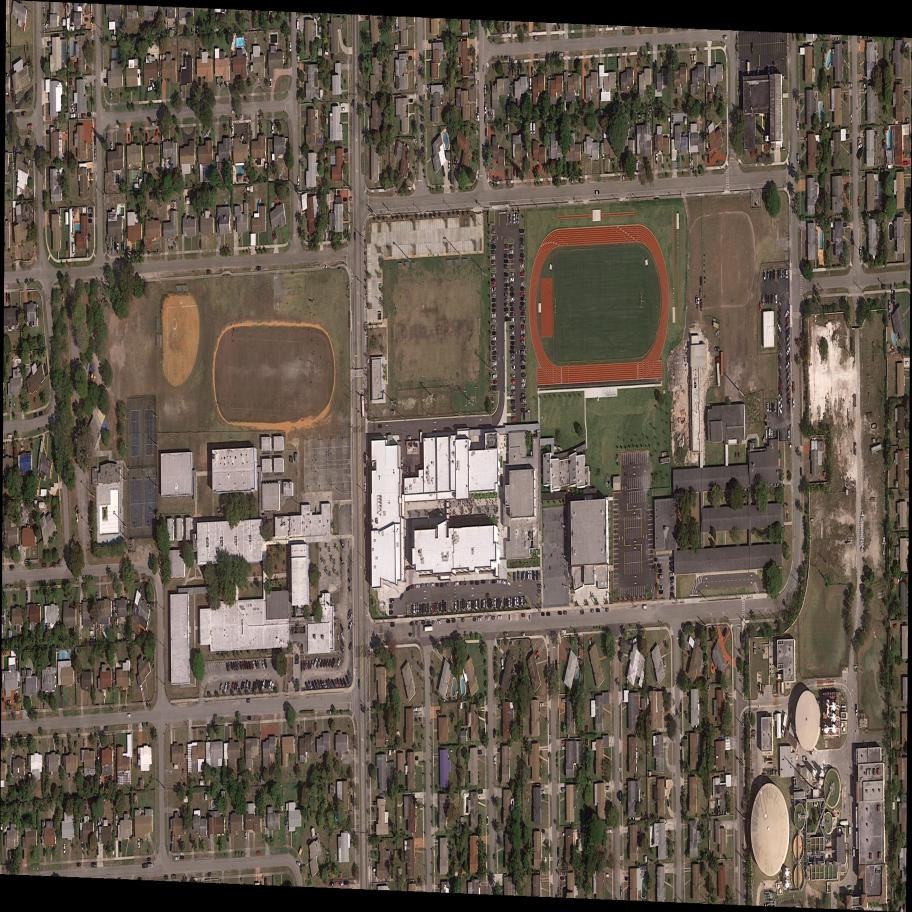large-vehicle: (361, 395, 365, 420), (839, 820, 849, 827), (765, 759, 773, 765), (747, 62, 750, 76), (424, 627, 432, 632)
ship: (115, 815, 118, 827)
small-vehicle: (721, 627, 729, 638), (346, 669, 353, 680), (298, 846, 304, 857), (316, 678, 322, 689), (327, 657, 333, 668), (303, 681, 310, 690), (776, 323, 783, 332), (784, 327, 791, 336), (313, 679, 319, 689), (315, 658, 321, 668), (347, 608, 353, 618), (683, 710, 689, 720), (200, 131, 207, 139), (784, 322, 791, 330), (785, 386, 792, 394), (564, 647, 571, 655), (331, 657, 336, 668), (348, 640, 353, 651), (151, 81, 157, 90), (223, 80, 229, 89), (44, 21, 50, 30), (239, 134, 245, 143), (307, 680, 313, 689), (310, 680, 316, 689), (319, 678, 325, 687), (324, 679, 330, 688), (327, 678, 333, 687), (333, 678, 339, 687), (205, 129, 211, 138), (339, 638, 345, 647), (784, 309, 790, 318), (778, 400, 784, 409), (777, 387, 783, 396), (777, 380, 783, 389), (785, 333, 791, 342), (785, 354, 791, 363), (398, 593, 404, 602), (441, 165, 445, 178), (263, 659, 268, 669), (319, 658, 324, 668), (340, 631, 345, 641), (348, 621, 353, 631), (171, 241, 178, 248), (55, 558, 62, 565), (631, 637, 638, 644), (11, 91, 15, 103), (339, 678, 345, 686), (342, 678, 348, 686), (259, 679, 263, 691), (339, 645, 345, 653), (777, 349, 783, 357), (776, 342, 782, 350), (336, 677, 341, 686), (345, 675, 350, 684), (226, 682, 231, 691), (322, 658, 327, 667), (339, 623, 344, 632), (777, 298, 782, 307), (777, 355, 782, 364), (778, 393, 783, 402), (786, 372, 791, 381), (786, 347, 791, 356), (232, 661, 236, 672), (245, 680, 249, 691), (224, 682, 228, 693), (252, 680, 256, 691), (314, 657, 318, 668), (889, 283, 893, 294), (469, 84, 476, 90), (306, 838, 312, 845), (785, 399, 791, 406), (505, 580, 512, 586), (485, 712, 488, 726), (534, 651, 540, 658), (225, 662, 229, 672), (230, 661, 234, 671), (236, 659, 240, 669), (241, 660, 245, 670), (243, 660, 247, 670), (245, 661, 249, 671), (155, 128, 159, 138), (331, 678, 336, 686), (240, 681, 244, 691), (247, 682, 251, 692), (348, 614, 353, 622), (778, 362, 783, 370), (778, 407, 783, 415), (778, 376, 783, 384), (785, 315, 790, 323), (786, 378, 791, 386), (786, 365, 791, 373), (785, 361, 790, 369), (786, 340, 791, 348), (557, 859, 561, 869), (314, 721, 317, 733), (235, 662, 239, 671), (252, 661, 256, 670), (261, 661, 265, 670), (147, 86, 153, 92), (9, 397, 12, 409), (323, 679, 327, 688), (219, 683, 223, 692), (231, 682, 235, 691), (266, 680, 270, 689), (342, 197, 348, 203), (337, 657, 341, 666), (778, 306, 782, 315), (855, 704, 858, 716), (405, 586, 411, 592), (501, 658, 504, 670), (697, 298, 700, 310), (219, 82, 224, 89), (715, 356, 720, 363), (777, 369, 782, 376), (535, 656, 540, 663), (297, 723, 300, 734), (248, 660, 251, 671), (180, 84, 183, 95), (20, 507, 23, 518), (775, 294, 778, 305), (620, 886, 623, 897), (555, 660, 558, 671), (768, 428, 771, 439), (663, 658, 666, 669), (517, 571, 520, 582), (691, 54, 694, 65), (325, 659, 329, 667), (777, 330, 781, 338), (777, 311, 781, 319), (63, 844, 66, 854), (379, 792, 384, 798), (255, 851, 261, 856), (170, 843, 173, 853), (257, 659, 260, 669), (269, 78, 272, 88), (93, 135, 96, 145), (81, 113, 87, 118), (15, 94, 18, 104), (81, 25, 87, 30), (234, 681, 237, 691), (236, 681, 239, 691), (243, 681, 246, 691), (271, 682, 274, 692), (311, 660, 314, 670), (256, 265, 261, 271), (274, 230, 277, 240), (272, 230, 275, 240), (859, 246, 862, 256), (889, 51, 892, 61), (647, 745, 650, 755), (751, 44, 754, 54), (426, 84, 432, 89), (890, 293, 893, 303), (893, 624, 898, 630), (902, 621, 907, 627), (897, 577, 902, 583), (786, 393, 791, 399), (520, 632, 526, 637), (150, 136, 154, 143), (777, 318, 781, 325), (350, 795, 353, 804), (228, 662, 231, 671), (239, 661, 242, 670), (250, 660, 253, 669), (502, 22, 505, 31), (255, 661, 258, 670), (255, 681, 258, 690), (257, 680, 260, 689), (262, 680, 265, 689), (264, 680, 267, 689), (269, 680, 272, 689), (352, 99, 355, 108), (297, 176, 300, 185), (358, 679, 361, 688), (771, 404, 774, 413), (591, 637, 594, 646), (227, 830, 229, 843), (620, 790, 622, 803), (851, 230, 853, 243), (329, 881, 334, 886), (407, 435, 412, 440), (413, 707, 418, 712), (296, 861, 301, 866), (174, 856, 179, 861), (492, 361, 497, 366), (509, 244, 514, 249), (389, 598, 394, 603), (408, 633, 413, 638), (390, 622, 395, 627), (491, 283, 496, 288), (491, 249, 496, 254), (532, 35, 537, 40), (152, 121, 157, 126), (88, 168, 93, 173), (658, 575, 663, 580), (658, 585, 663, 590), (847, 83, 852, 88), (750, 730, 755, 735), (628, 639, 633, 644), (561, 629, 566, 634), (511, 400, 516, 405), (510, 335, 515, 340), (521, 373, 526, 378), (562, 871, 567, 876), (715, 346, 720, 351), (71, 104, 74, 112), (349, 196, 353, 202), (378, 423, 382, 429), (344, 147, 348, 153), (850, 142, 852, 154), (903, 160, 907, 166), (904, 90, 908, 96), (903, 42, 907, 48), (858, 195, 860, 207), (862, 174, 866, 180), (858, 144, 862, 150), (882, 283, 886, 289), (889, 300, 891, 312), (718, 736, 722, 742), (680, 764, 683, 772), (848, 885, 852, 891), (803, 755, 807, 761), (589, 640, 592, 648), (510, 366, 516, 370), (509, 326, 515, 330), (521, 383, 525, 389), (540, 829, 546, 833), (562, 698, 566, 704), (119, 841, 121, 852), (8, 849, 10, 860), (533, 123, 535, 134), (106, 132, 108, 143), (117, 243, 119, 254), (230, 117, 232, 128), (297, 19, 299, 30), (121, 241, 123, 252), (233, 220, 235, 231), (354, 231, 356, 242), (364, 466, 366, 477), (364, 452, 366, 463), (764, 270, 766, 281), (797, 120, 799, 131), (800, 466, 802, 477), (22, 849, 24, 859), (43, 847, 45, 857), (81, 841, 83, 851), (91, 863, 96, 867), (44, 756, 46, 766), (76, 728, 80, 733), (409, 98, 413, 103), (334, 881, 338, 886), (417, 708, 422, 712), (436, 710, 441, 714), (404, 464, 406, 474), (245, 831, 247, 841), (171, 832, 173, 842), (5, 584, 9, 589), (6, 292, 8, 302), (8, 292, 10, 302), (138, 839, 140, 849), (172, 874, 176, 879), (180, 855, 184, 860), (189, 833, 191, 843), (208, 872, 212, 877), (285, 817, 287, 827), (513, 214, 515, 224), (492, 385, 496, 390), (492, 356, 497, 360), (492, 346, 496, 351), (492, 336, 496, 341), (491, 319, 496, 323), (503, 254, 508, 258), (504, 259, 508, 264), (510, 287, 514, 292), (509, 278, 514, 282), (510, 272, 514, 277), (509, 250, 514, 254), (504, 273, 508, 278), (504, 302, 508, 307), (504, 298, 509, 302), (504, 293, 509, 297), (504, 288, 509, 292), (484, 84, 486, 94), (461, 618, 465, 623), (451, 619, 456, 623), (446, 619, 450, 624), (437, 620, 441, 625), (421, 620, 425, 625), (410, 622, 414, 627), (389, 610, 393, 615), (389, 604, 393, 609), (491, 245, 496, 249), (559, 52, 563, 57), (89, 208, 93, 213), (88, 219, 92, 224), (66, 242, 68, 252), (146, 132, 148, 142), (110, 91, 112, 101), (94, 150, 96, 160), (238, 114, 242, 119), (232, 109, 236, 114), (289, 13, 291, 23), (217, 78, 219, 88), (42, 563, 46, 568), (8, 434, 12, 439), (71, 114, 76, 118), (48, 41, 52, 46), (16, 147, 18, 157), (28, 124, 32, 129), (21, 113, 26, 117), (67, 4, 69, 14), (272, 123, 274, 133), (327, 710, 332, 714), (246, 698, 250, 703), (364, 505, 366, 515), (365, 518, 367, 528), (780, 269, 782, 279), (905, 361, 909, 366), (863, 76, 867, 81), (797, 154, 799, 164), (680, 702, 682, 712), (670, 572, 674, 577), (654, 557, 658, 562), (658, 590, 663, 594), (724, 686, 728, 691), (605, 873, 609, 878), (608, 829, 612, 834), (624, 784, 628, 789), (725, 701, 729, 706), (493, 729, 495, 739), (532, 570, 534, 580), (520, 286, 524, 291), (520, 228, 524, 233), (373, 801, 377, 806), (843, 223, 847, 228), (623, 47, 628, 51), (751, 735, 755, 740), (853, 847, 855, 857), (773, 431, 775, 441), (774, 403, 776, 413), (849, 824, 851, 834), (900, 627, 902, 637), (530, 570, 532, 580), (534, 571, 536, 581), (498, 616, 502, 621), (502, 580, 506, 585), (523, 596, 525, 606), (410, 585, 414, 590), (416, 584, 420, 589), (420, 583, 424, 588), (430, 583, 435, 587), (454, 582, 459, 586), (511, 406, 515, 411), (511, 418, 516, 422), (511, 385, 515, 390), (511, 374, 515, 379), (520, 264, 524, 269), (520, 345, 525, 349), (558, 886, 560, 896), (560, 876, 564, 881), (557, 846, 559, 856), (478, 790, 483, 794), (498, 705, 503, 709), (561, 746, 566, 750), (694, 54, 696, 64), (580, 610, 585, 614), (642, 606, 647, 610), (700, 300, 702, 310), (636, 161, 638, 171), (689, 153, 691, 163), (504, 598, 506, 608), (506, 597, 508, 607), (503, 632, 508, 636), (415, 603, 417, 613), (455, 602, 457, 612), (96, 592, 98, 601), (98, 741, 100, 750), (83, 739, 85, 748), (114, 673, 116, 682), (456, 160, 458, 169), (79, 605, 81, 614), (281, 735, 283, 744), (26, 592, 28, 601), (287, 817, 289, 826), (406, 466, 408, 475), (507, 22, 509, 31), (111, 142, 113, 151), (161, 77, 163, 86), (114, 242, 116, 251), (13, 146, 15, 155), (232, 126, 234, 135), (251, 131, 253, 140), (301, 662, 303, 671), (304, 661, 306, 670), (199, 240, 201, 249), (364, 483, 366, 492), (365, 566, 367, 575), (768, 270, 770, 279), (773, 270, 775, 279), (777, 270, 779, 279), (782, 270, 784, 279), (784, 270, 786, 279), (786, 270, 788, 279), (768, 295, 770, 304), (771, 295, 773, 304), (766, 295, 768, 304), (893, 290, 895, 299), (762, 297, 764, 306), (760, 302, 762, 311), (893, 302, 895, 311), (438, 883, 441, 889), (512, 597, 514, 606), (64, 747, 66, 756), (740, 632, 742, 641), (771, 431, 773, 440), (776, 430, 778, 439), (779, 432, 781, 441), (788, 430, 790, 439), (767, 403, 769, 412), (513, 572, 515, 581), (528, 571, 530, 580), (521, 597, 523, 606), (494, 756, 496, 765), (578, 649, 580, 658), (700, 277, 702, 286), (485, 599, 487, 608), (494, 598, 496, 607), (498, 598, 500, 607), (508, 598, 510, 607), (510, 597, 512, 606), (469, 601, 471, 610), (437, 603, 439, 612), (427, 604, 429, 613), (421, 604, 423, 613), (417, 604, 419, 613), (413, 604, 415, 613), (411, 604, 413, 613), (460, 602, 462, 611), (62, 740, 64, 748), (43, 692, 45, 700), (454, 157, 456, 165), (448, 172, 450, 180), (408, 56, 412, 60), (344, 881, 348, 885), (7, 700, 11, 704), (147, 857, 151, 861), (164, 876, 168, 880), (492, 304, 496, 308), (504, 244, 508, 248), (509, 216, 511, 224), (493, 374, 497, 378), (492, 351, 496, 355), (492, 341, 496, 345), (492, 331, 496, 335), (492, 326, 496, 330), (492, 314, 496, 318), (504, 265, 508, 269), (509, 255, 513, 259), (505, 318, 509, 322), (492, 308, 496, 312), (492, 298, 496, 302), (485, 128, 487, 136), (427, 621, 431, 625), (415, 621, 419, 625), (491, 278, 495, 282), (87, 113, 91, 117), (88, 214, 92, 218), (128, 134, 130, 142), (297, 53, 299, 61), (306, 661, 308, 669), (364, 530, 366, 538), (889, 313, 891, 321), (683, 736, 687, 740), (670, 592, 674, 596), (670, 586, 674, 590), (670, 577, 674, 581), (669, 561, 673, 565), (768, 66, 770, 74), (625, 877, 629, 881), (606, 786, 610, 790), (510, 318, 514, 322), (9, 565, 13, 569), (89, 630, 93, 634), (52, 562, 56, 566), (812, 438, 816, 442), (563, 611, 567, 615), (521, 572, 523, 580), (536, 572, 538, 580), (537, 590, 541, 594), (537, 584, 541, 588), (472, 618, 476, 622), (485, 617, 489, 621), (492, 616, 496, 620), (521, 614, 525, 618), (541, 612, 545, 616), (497, 580, 501, 584), (445, 583, 449, 587), (463, 582, 467, 586), (486, 580, 490, 584), (558, 611, 562, 615), (521, 398, 525, 402), (520, 259, 524, 263), (511, 380, 515, 384), (510, 350, 514, 354), (510, 330, 514, 334), (520, 272, 524, 276), (520, 282, 524, 286), (522, 379, 526, 383), (521, 366, 525, 370), (521, 360, 525, 364), (521, 355, 525, 359), (521, 331, 525, 335), (521, 318, 525, 322), (562, 832, 566, 836), (478, 750, 482, 754), (541, 791, 545, 795), (540, 703, 544, 707), (561, 788, 565, 792), (562, 741, 566, 745), (723, 36, 727, 40), (590, 609, 594, 613), (596, 609, 600, 613), (696, 296, 698, 304), (485, 594, 489, 598), (473, 601, 475, 609), (483, 601, 485, 609), (467, 602, 469, 610), (425, 605, 427, 613), (462, 601, 464, 609), (457, 602, 459, 610), (415, 756, 418, 761), (511, 297, 514, 302), (504, 284, 509, 287), (491, 288, 496, 291), (509, 313, 514, 316), (805, 136, 808, 141), (680, 741, 683, 746), (510, 342, 515, 345), (43, 702, 45, 709), (481, 602, 483, 609), (77, 864, 81, 867), (104, 727, 107, 731), (127, 714, 130, 718), (122, 707, 126, 710), (339, 882, 343, 885), (349, 810, 352, 814), (38, 581, 41, 585), (510, 308, 514, 311), (493, 380, 497, 383), (493, 367, 496, 371), (510, 293, 514, 296), (504, 308, 508, 311), (504, 279, 508, 282), (431, 621, 435, 624), (492, 273, 495, 277), (492, 266, 496, 269), (492, 260, 495, 264), (492, 255, 495, 259), (492, 240, 496, 243), (492, 230, 496, 233), (85, 17, 88, 21), (247, 716, 251, 719), (337, 190, 340, 194), (341, 108, 345, 111), (340, 103, 343, 107), (510, 303, 514, 306), (905, 118, 909, 121), (843, 41, 846, 45), (865, 90, 868, 94), (685, 731, 688, 735), (670, 582, 674, 585), (670, 567, 673, 571), (669, 557, 673, 560), (657, 564, 661, 567), (658, 569, 662, 572), (725, 693, 728, 697), (373, 868, 376, 872), (478, 618, 481, 622), (546, 613, 550, 616), (426, 583, 429, 587), (492, 580, 496, 583), (459, 582, 463, 585), (475, 581, 479, 584), (481, 580, 485, 583), (520, 254, 524, 257), (511, 391, 515, 394), (510, 356, 514, 359), (521, 351, 525, 354), (521, 341, 525, 344), (521, 336, 525, 339), (521, 326, 525, 329), (521, 306, 524, 310), (520, 302, 524, 305), (521, 297, 524, 301), (595, 191, 599, 194), (485, 102, 486, 113), (531, 123, 532, 134), (656, 153, 657, 164), (61, 687, 62, 697), (449, 160, 450, 170), (394, 72, 395, 82), (229, 820, 230, 830), (485, 114, 486, 124), (530, 79, 531, 89), (514, 166, 515, 176), (106, 235, 107, 245), (297, 90, 298, 100), (793, 398, 794, 408), (793, 382, 794, 392), (681, 749, 682, 759), (62, 755, 63, 765), (519, 597, 520, 607), (490, 599, 491, 609), (97, 846, 98, 855), (416, 82, 417, 91), (453, 157, 454, 166), (402, 457, 403, 466), (518, 214, 519, 223), (516, 214, 517, 223), (510, 283, 513, 286), (505, 314, 508, 317), (492, 294, 495, 297), (535, 55, 538, 58), (532, 67, 533, 76), (108, 245, 109, 254), (297, 79, 298, 88), (290, 43, 291, 52), (308, 660, 309, 669), (770, 272, 771, 281), (797, 109, 798, 118), (758, 67, 759, 76), (772, 67, 773, 76), (445, 602, 446, 611), (443, 601, 444, 610), (511, 346, 514, 349), (98, 751, 99, 760), (487, 815, 488, 824), (524, 571, 525, 580), (435, 583, 438, 586), (440, 584, 443, 587), (470, 581, 473, 584), (520, 244, 523, 247), (520, 239, 523, 242), (511, 361, 514, 364), (522, 394, 525, 397), (521, 292, 524, 295), (521, 313, 524, 316), (517, 597, 518, 606), (515, 597, 516, 606), (605, 608, 608, 611), (692, 153, 693, 162), (476, 601, 477, 610), (488, 600, 489, 609), (496, 598, 497, 607), (501, 599, 502, 608), (465, 601, 466, 610), (423, 604, 424, 613), (441, 602, 442, 611), (435, 603, 436, 612), (431, 604, 432, 613), (419, 604, 420, 613), (26, 602, 27, 610), (207, 736, 208, 744), (770, 405, 771, 413), (526, 572, 527, 580), (579, 638, 580, 646), (700, 288, 701, 296), (478, 601, 479, 609), (492, 601, 493, 609), (433, 605, 434, 613)
storage-tank: (750, 778, 791, 878), (795, 690, 821, 752)
